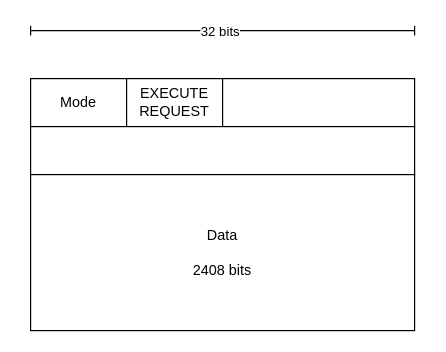
This 446x352 diagram has some shape labels left out. The centre of each missing label's shape, as x and y in pixels:
Task Id: pixel 222 150
Unused: pixel 318 102
